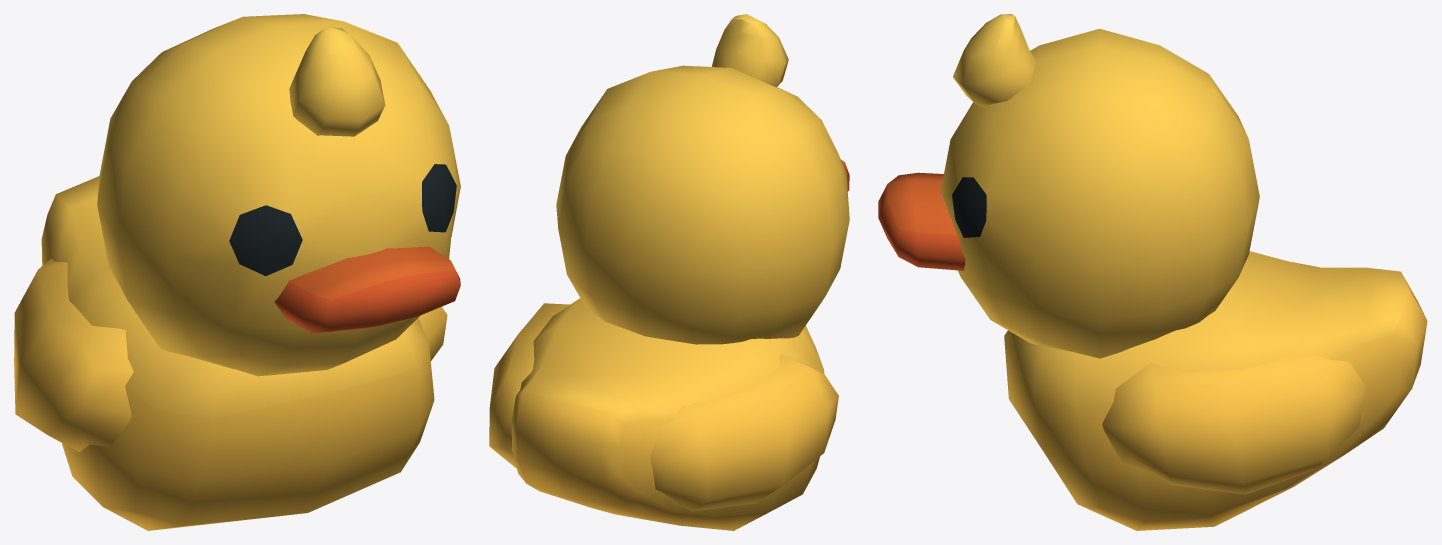
Rendered from ducky.fbx.
3 views of the same model, side by side, from view 1: azimuth 30°, elevation 25°; view 2: azimuth 150°, elevation 25°; view 3: azimuth 270°, elevation 25° (orthographic). The views are drawn at different scales.
Visible parts, largest first — view 1: ducky; view 2: ducky; view 3: ducky.
Part boxes in pixels (bbox=[...]): ducky: bbox=[14, 14, 460, 530]; ducky: bbox=[489, 14, 849, 530]; ducky: bbox=[878, 14, 1427, 530].
Size of the model in its own units: 0.2983 by 0.403 by 0.4209.
